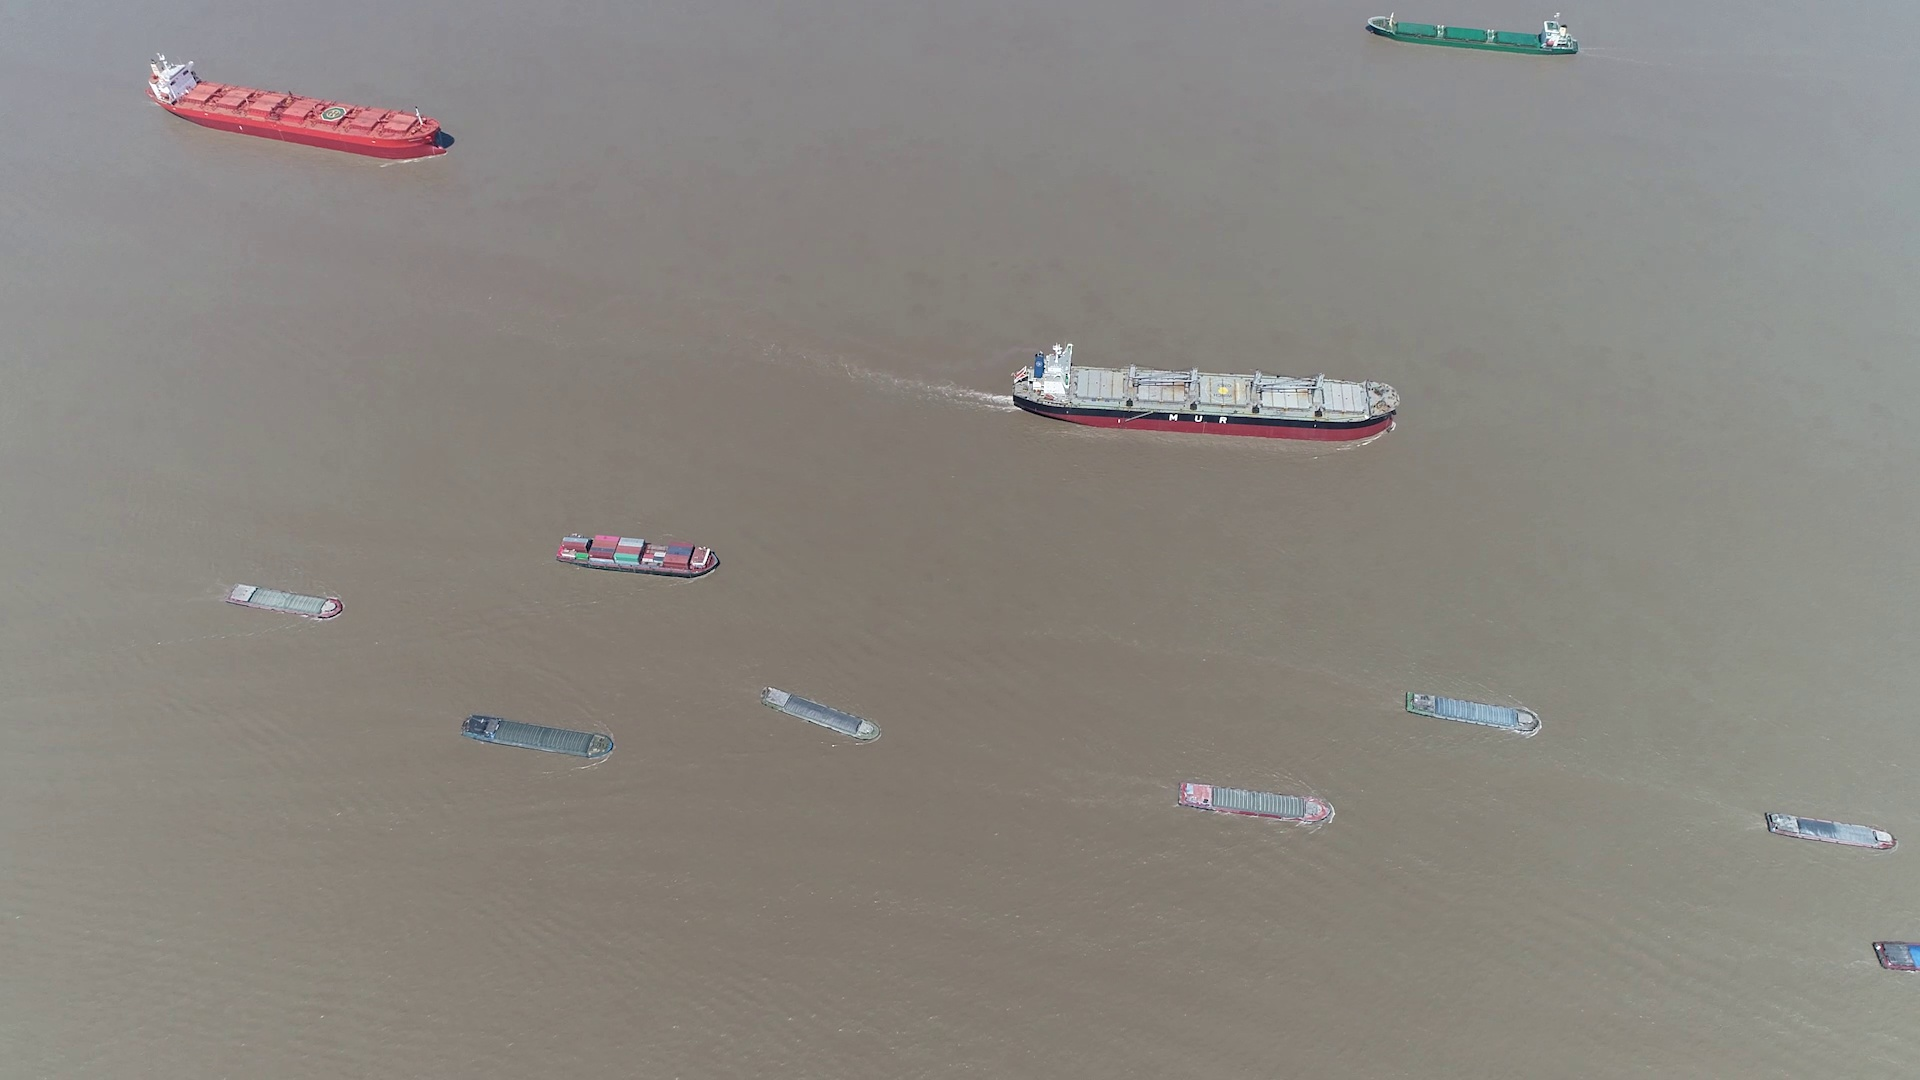ship: (1011, 348, 1398, 442), (152, 51, 450, 158), (1361, 15, 1581, 57), (556, 534, 721, 578), (463, 715, 613, 760), (1178, 782, 1336, 824), (766, 688, 882, 742), (1403, 690, 1542, 735), (1764, 811, 1895, 851), (225, 583, 344, 618), (1874, 942, 1919, 973)
